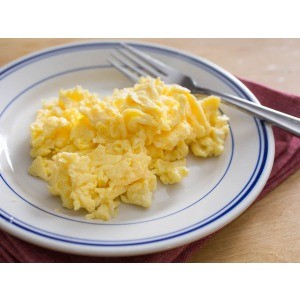egg_brain food: (73, 105, 159, 178)
